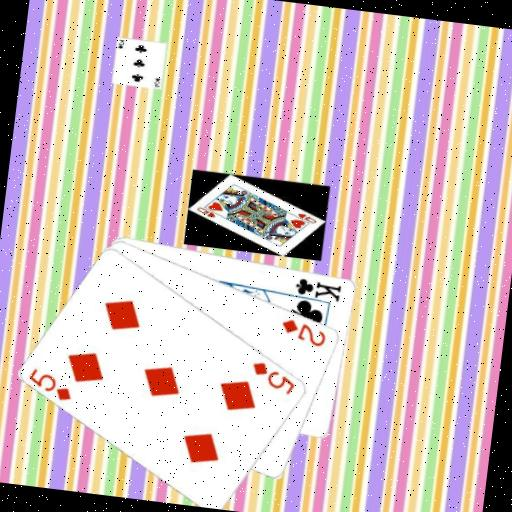2D: (277, 315, 330, 349)
5D: (247, 358, 300, 397), (24, 365, 77, 404)
KC: (286, 273, 344, 307)
